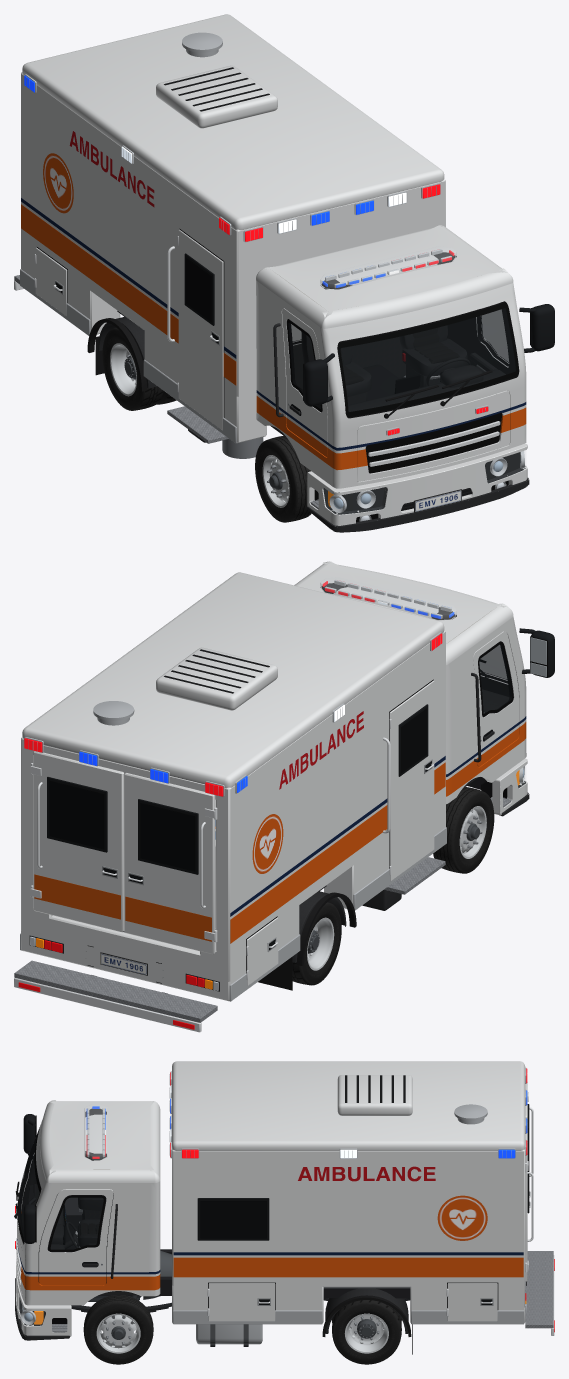
Rendered from ambulance.glb.
3 renders of one model, top to bottom at view 1: azimuth 30°, elevation 25°; view 2: azimuth 150°, elevation 25°; view 3: azimuth 270°, elevation 25°, orthographic. The views are drawn at different scales.
Parts seen in each view (by area): view 1: Body, Wheel_1_Right, Wheel_2_Right; view 2: Body, Door_Left, Door_Right, Wheel_1_Right, Wheel_2_Right; view 3: Body, Wheel_1_Left, Wheel_2_Left, Door_Left, Door_Right.
Part boxes in pixels (bbox=[...]): Body: bbox=[14, 14, 554, 532]; Wheel_1_Right: bbox=[255, 436, 311, 522]; Wheel_2_Right: bbox=[102, 327, 176, 410]; Body: bbox=[14, 561, 554, 1032]; Door_Left: bbox=[30, 751, 124, 932]; Door_Right: bbox=[124, 773, 217, 954]; Wheel_1_Right: bbox=[433, 787, 494, 873]; Wheel_2_Right: bbox=[292, 902, 341, 985]; Body: bbox=[14, 1061, 554, 1354]; Wheel_1_Left: bbox=[83, 1295, 153, 1364]; Wheel_2_Left: bbox=[332, 1300, 401, 1364]; Door_Left: bbox=[525, 1117, 533, 1281]; Door_Right: bbox=[525, 1082, 533, 1197].
Bounding box in the file's own units: 2.8 × 3.14 × 6.49.
Materials: 76 (15 with a texture image).
